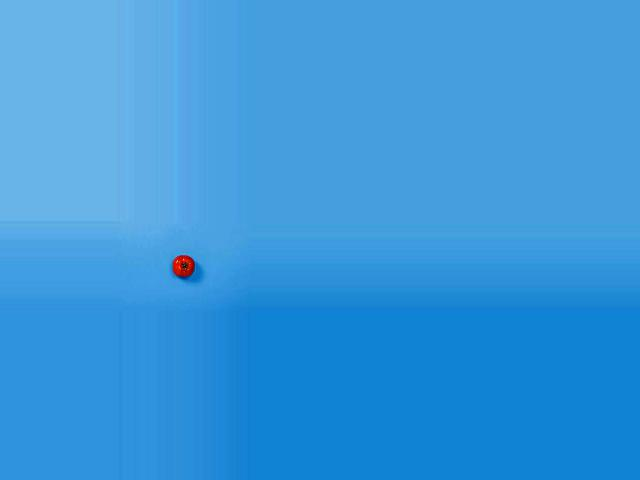tomato: (172, 255, 195, 277)
